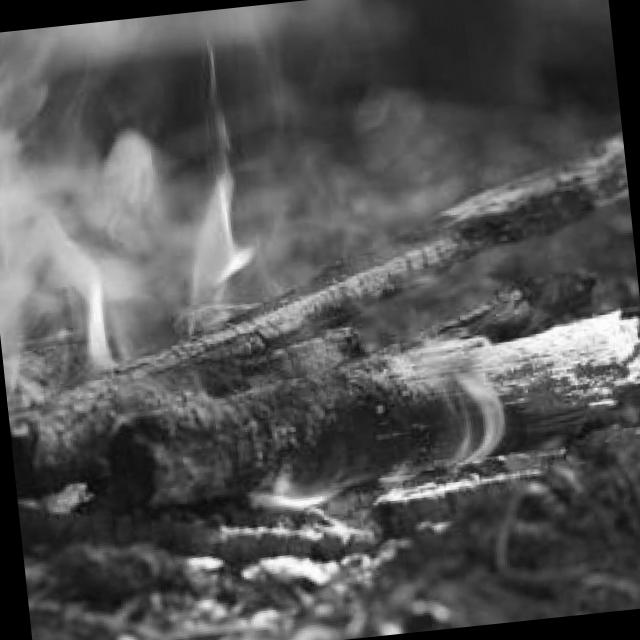fire: (127, 50, 314, 352), (224, 357, 532, 531)
smoke: (0, 23, 125, 432)
